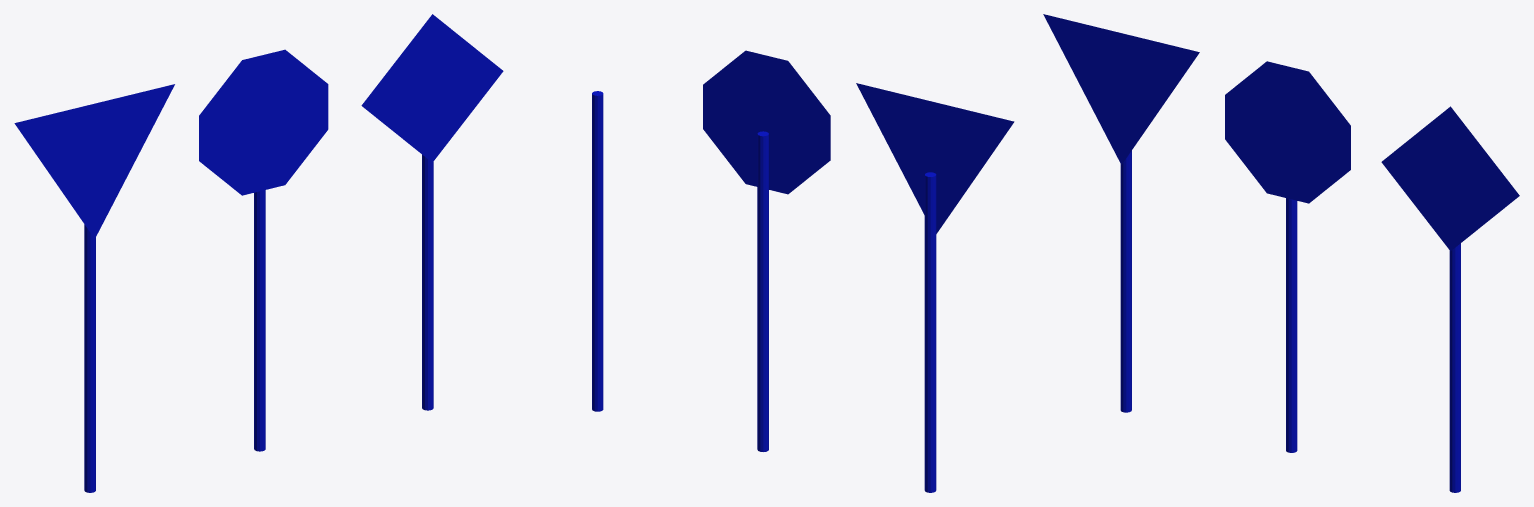
The model's file is Streetsigns.fbx.
The picture shows the model from 3 angles, left to right: view 1: azimuth 30°, elevation 25°; view 2: azimuth 150°, elevation 25°; view 3: azimuth 330°, elevation 25°; orthographic projection. The views are drawn at different scales.
Parts seen in each view (by area): view 1: Streetsigns; view 2: Streetsigns; view 3: Streetsigns.
Part boxes in pixels (box(x1,y1,x2,y2)): Streetsigns: box(14, 14, 503, 492); Streetsigns: box(592, 50, 1014, 492); Streetsigns: box(1043, 14, 1519, 492).
Size of the model in its own units: 816 by 634 by 22.17.
